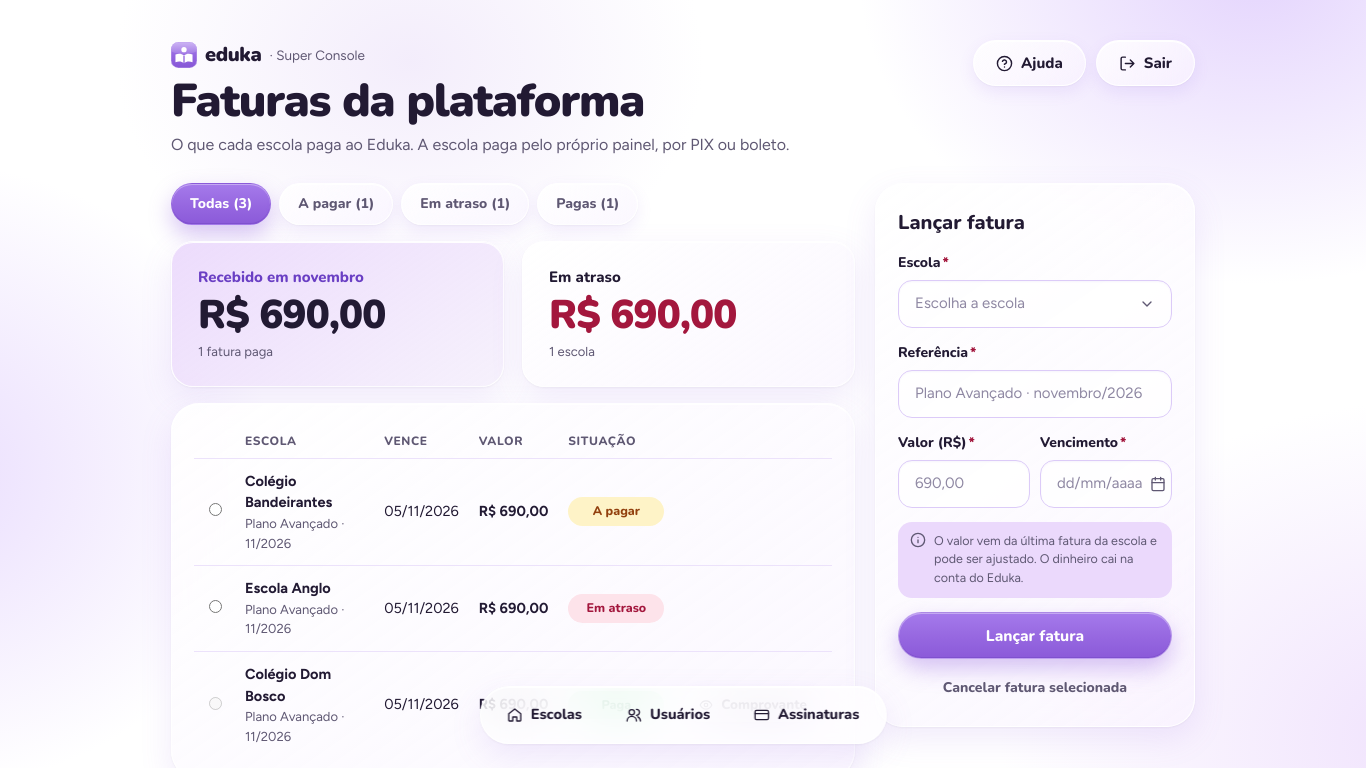
FaturasPlataforma › lista as faturas de todas as escolas com os indicadores e filtra pela situação
The width and height of the screenshot is (1366, 768).
Expected: the text "Colégio Bandeirantes" is shown, [245, 472, 332, 511]
Expected: the text "Escola Anglo" is shown, [245, 579, 331, 597]
What coordinates should you click on to do the following:
click the button "Em atraso (1)"
I would click on:
 (465, 204)
Its box is [401, 183, 529, 225].
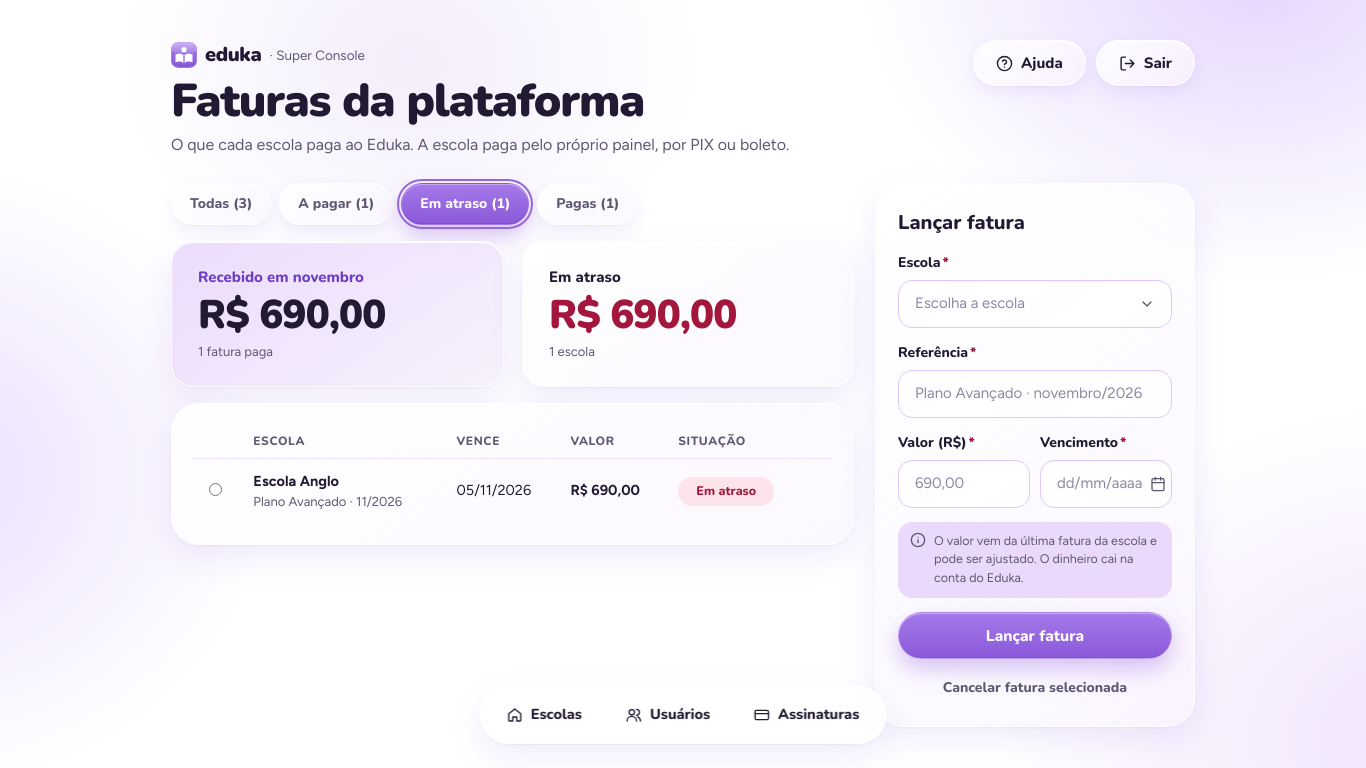
Expected: the text "Escola Anglo" is shown, [253, 472, 339, 490]
Result: the text "Colégio Bandeirantes" is gone
